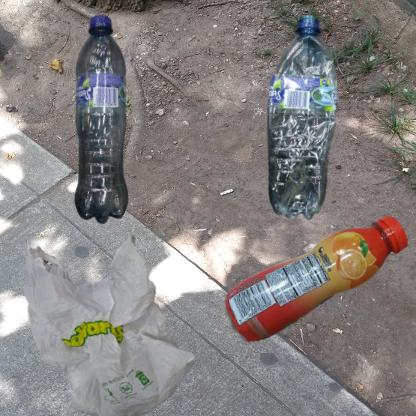bolsa: (10, 213, 220, 416)
botella: (10, 10, 238, 287), (213, 10, 416, 293), (213, 213, 416, 358)
